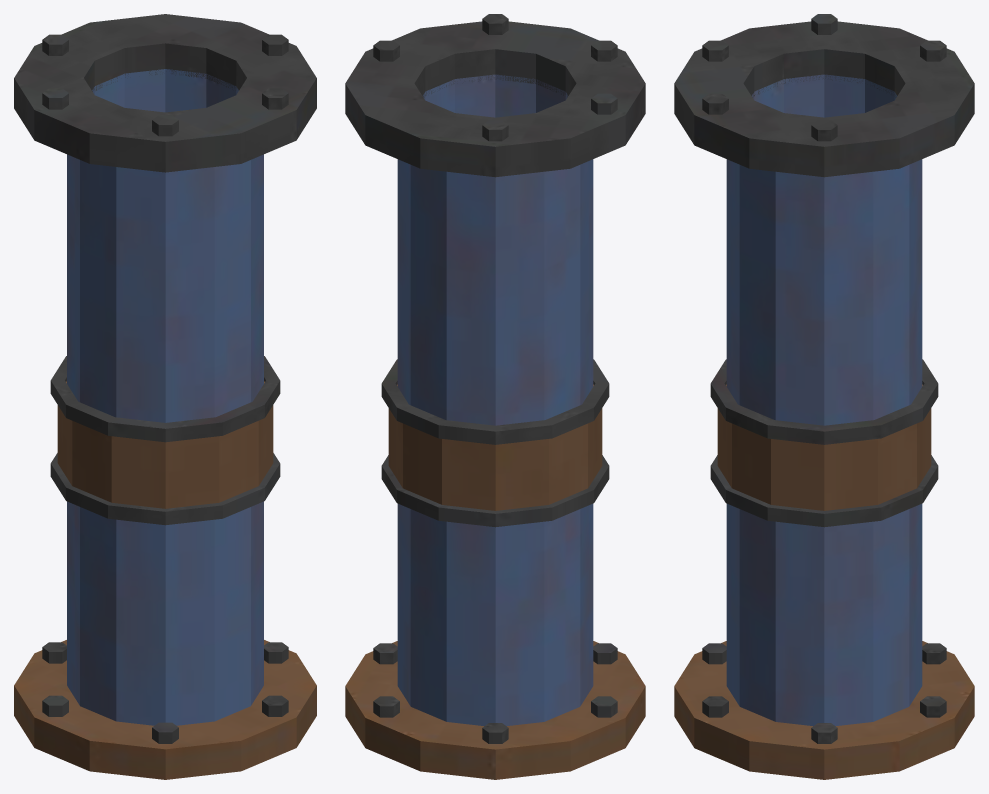
File: D26_pipe_pieces_v1.glb
3 renders of one model, left to right at view 1: azimuth 30°, elevation 25°; view 2: azimuth 150°, elevation 25°; view 3: azimuth 270°, elevation 25°, orthographic.
Parts seen in each view (by area): view 1: Blue riser; view 2: Blue riser; view 3: Blue riser.
Part boxes in pixels (bbox=[...]): Blue riser: bbox=[14, 14, 316, 779]; Blue riser: bbox=[345, 14, 645, 779]; Blue riser: bbox=[674, 14, 974, 779].
Bounding box in the file's own units: 0.4224 × 1 × 0.4224.
Materials: 3 (3 with a texture image).
